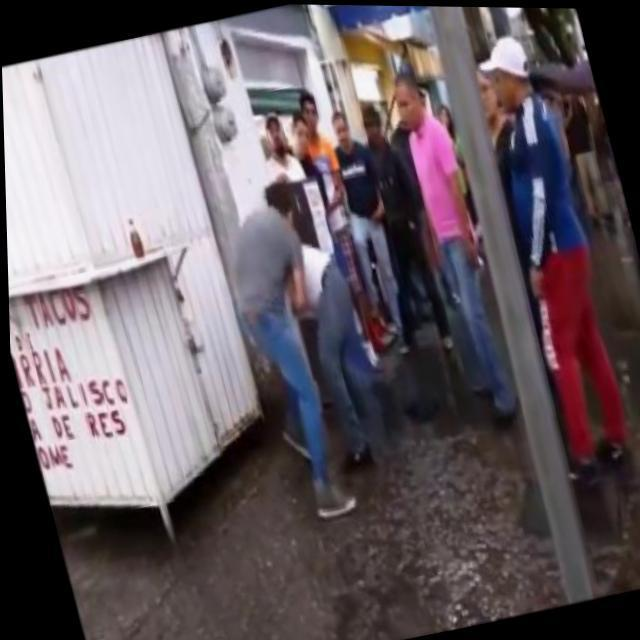fight: (207, 168, 400, 508)
